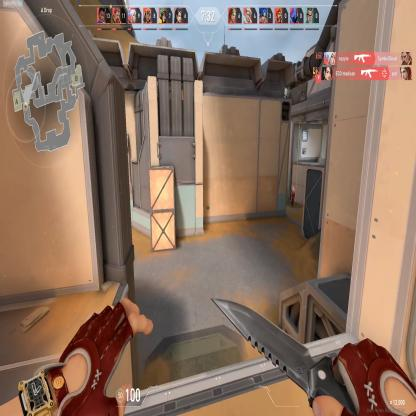enemy: (290, 184, 296, 208)
